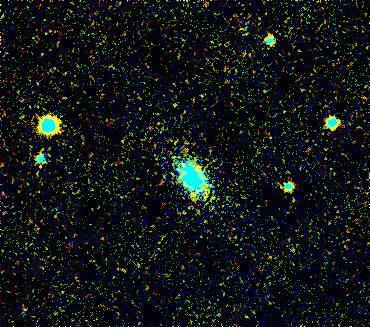star: (177, 181, 207, 211)
